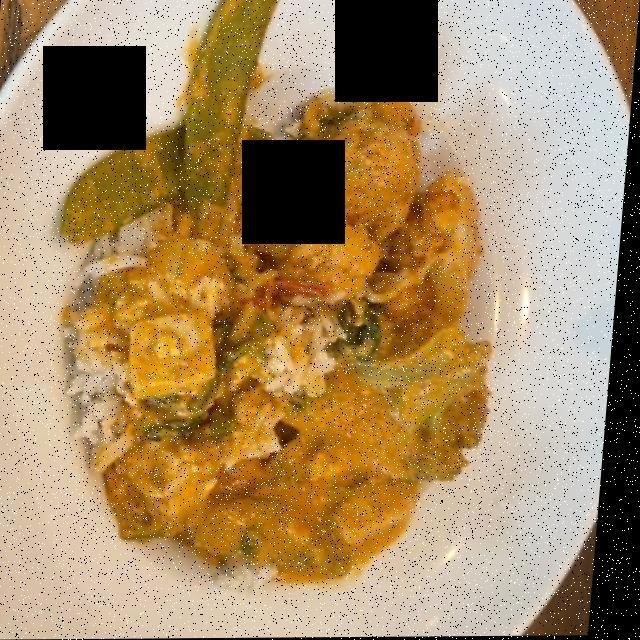curry-vegetarian: (223, 184, 494, 568), (77, 22, 280, 419)
rice: (82, 132, 343, 473)
tofu: (110, 88, 424, 537)
